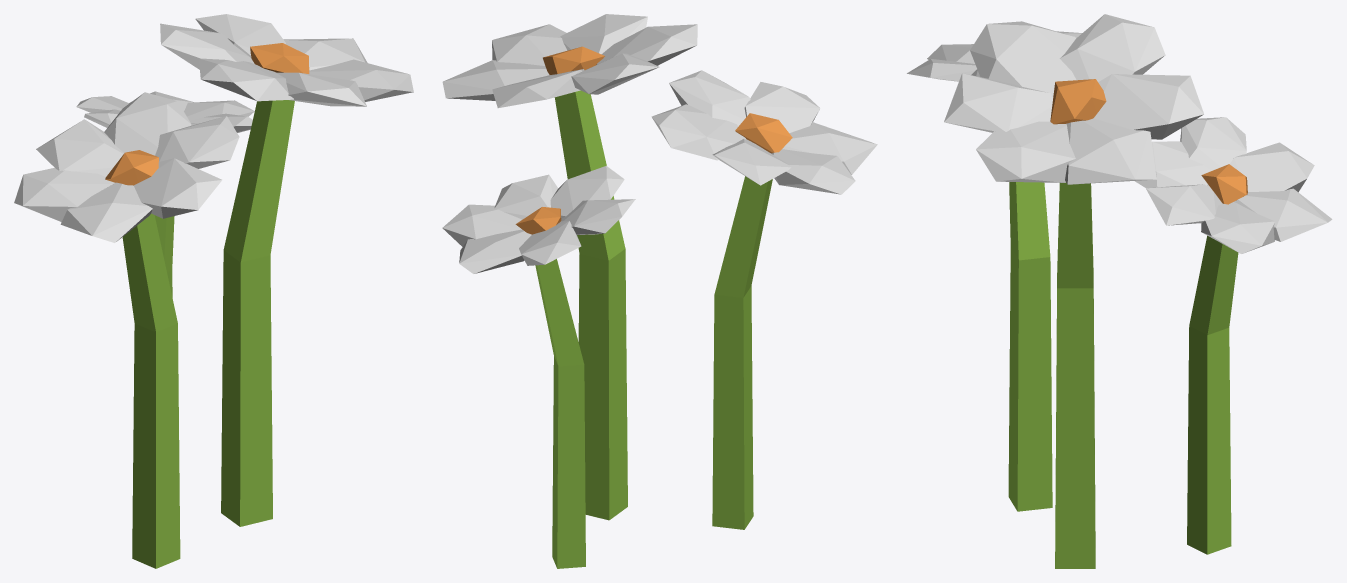
File: 白色小花丛2.fbx
3 views of the same model, side by side, from view 1: azimuth 30°, elevation 25°; view 2: azimuth 150°, elevation 25°; view 3: azimuth 270°, elevation 25° (orthographic). The views are drawn at different scales.
Parts seen in each view (by area): view 1: Flower3_2; view 2: Flower3_2; view 3: Flower3_2.
Boxes of the visible parts, x1,y1,x2,y2 form: Flower3_2: (14, 14, 413, 568); Flower3_2: (442, 14, 877, 568); Flower3_2: (907, 14, 1332, 568).
Bounding box in the file's own units: 63.66 × 77.35 × 58.32.
